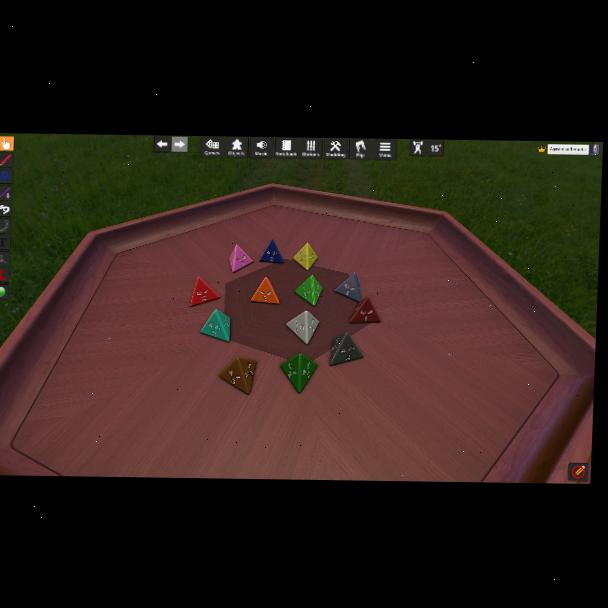d4: (279, 353, 316, 394), (219, 355, 257, 394), (329, 331, 363, 366), (285, 310, 319, 345), (199, 310, 231, 343), (350, 295, 382, 324), (294, 275, 323, 306), (191, 277, 220, 307), (250, 277, 280, 305), (334, 273, 361, 303), (228, 245, 253, 274), (293, 242, 318, 271), (259, 239, 285, 265)
